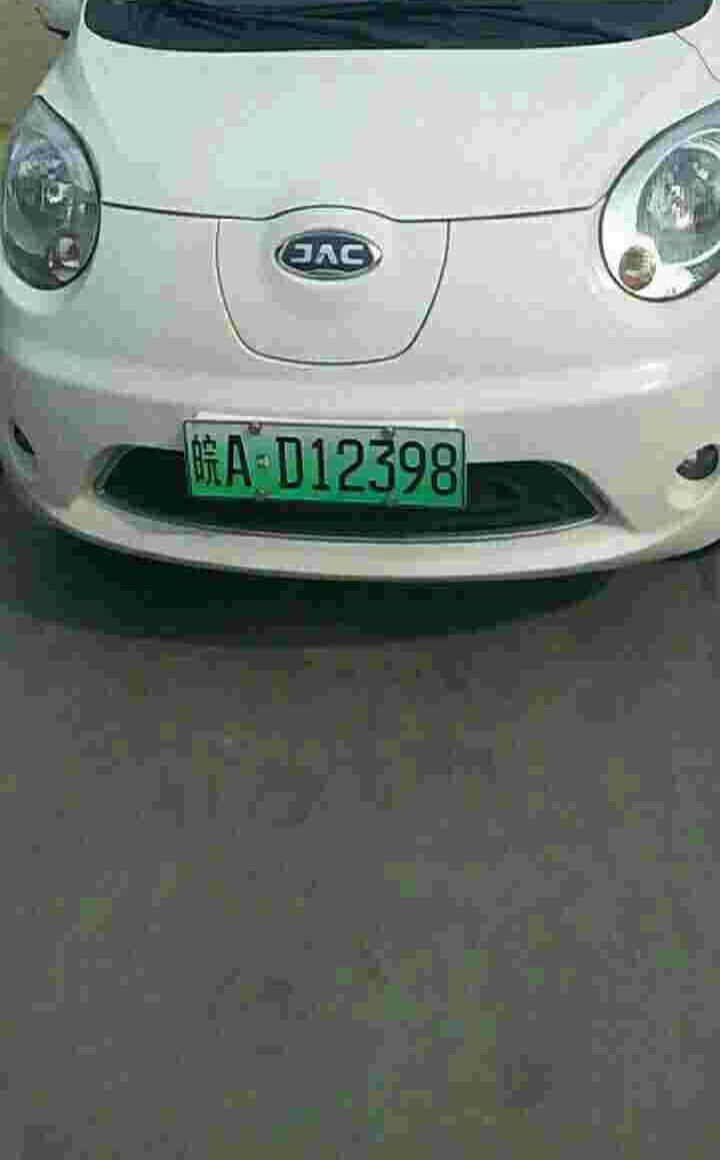car_id: (183, 423, 465, 508)
